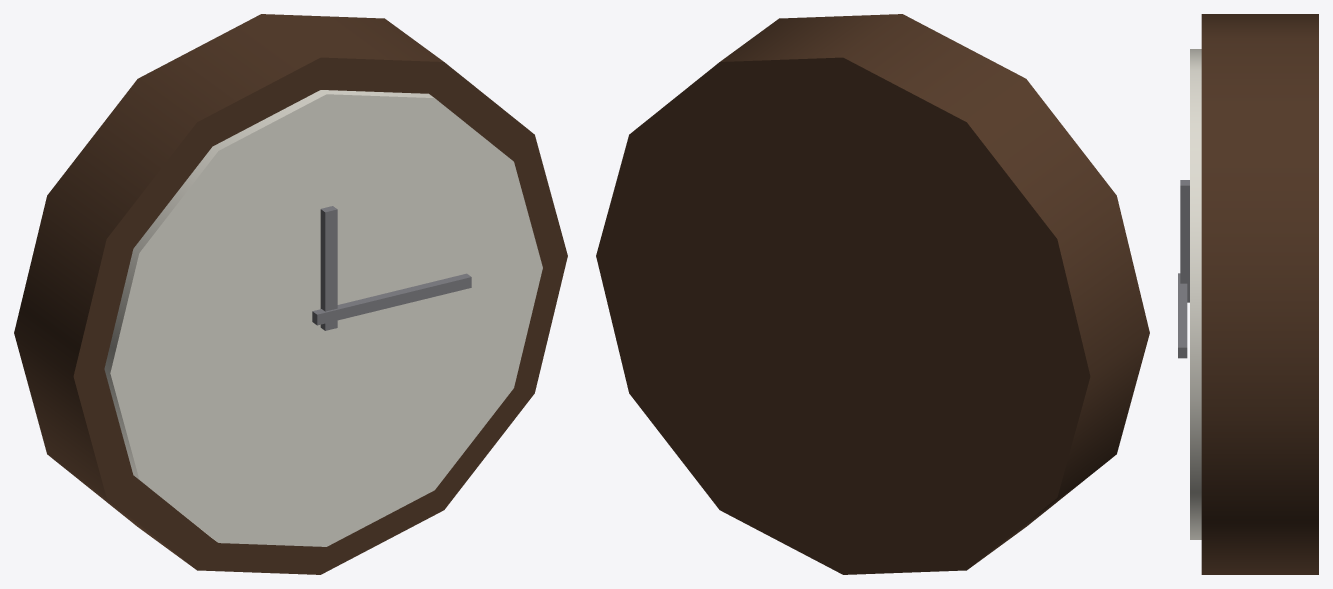
File: PRP_P0_Clock_Analog_A.obj
3 views of the same model, side by side, from view 1: azimuth 30°, elevation 25°; view 2: azimuth 150°, elevation 25°; view 3: azimuth 270°, elevation 25° (orthographic).
Visible parts, largest first — view 1: face, case_body, hand_minute, hand_hour; view 2: case_body; view 3: case_body, face, hand_hour, hand_minute.
Part boxes in pixels (x1,y1,x2,y2): face: (104,90,542,546); case_body: (14,14,567,574); hand_minute: (312,273,471,325); hand_hour: (320,206,337,330); case_body: (596,14,1149,574); case_body: (1201,14,1318,574); face: (1190,49,1201,539); hand_hour: (1180,180,1189,302); hand_minute: (1178,273,1187,358).
Size of the model in its own units: 0.24 by 0.24 by 0.06.
